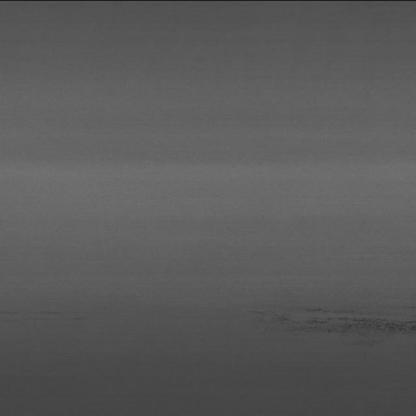inclusion: (255, 292, 416, 344)
